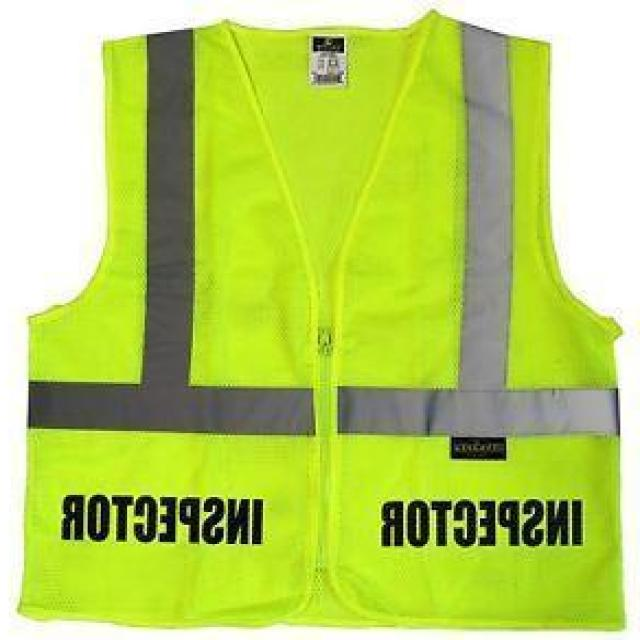jacket: (7, 8, 640, 640)
